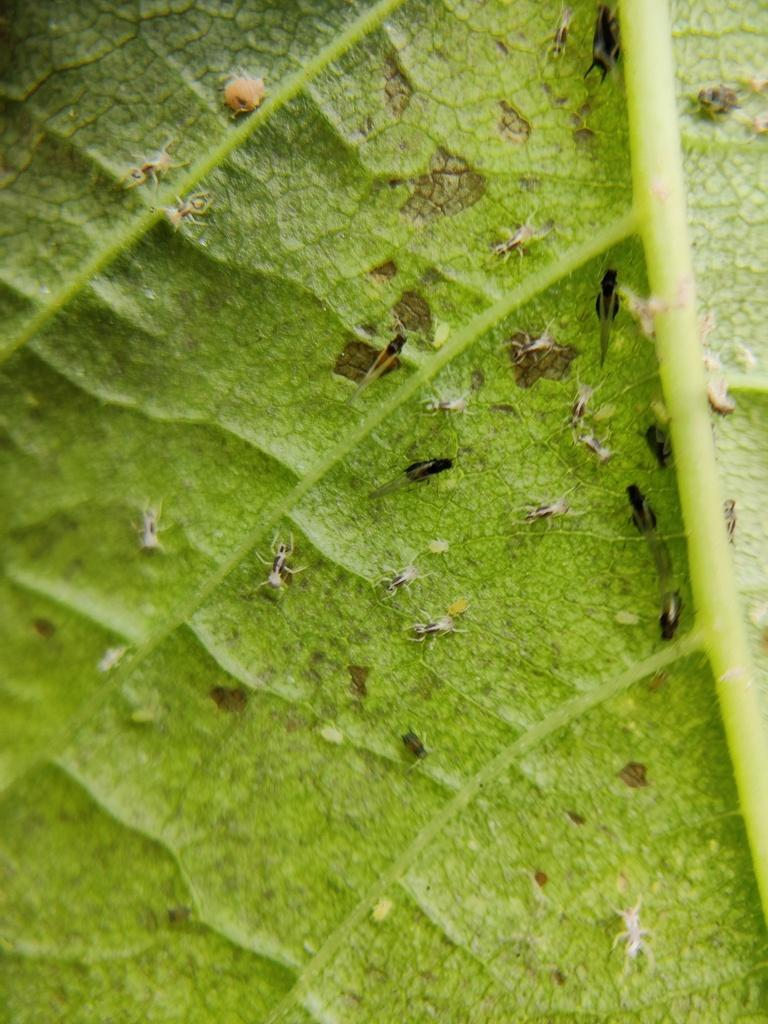tiny_pests: (471, 186, 549, 275), (244, 521, 318, 606), (553, 377, 622, 468), (362, 551, 444, 601), (392, 613, 470, 658)
